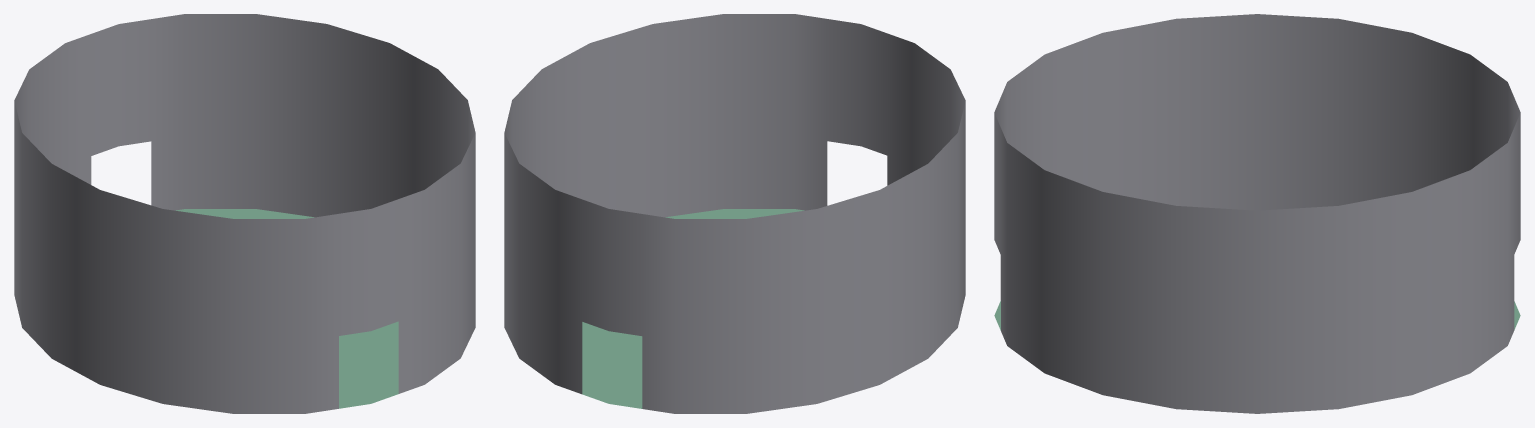
The model's file is Atrium4.fbx.
The picture shows the model from 3 angles, left to right: view 1: azimuth 30°, elevation 25°; view 2: azimuth 150°, elevation 25°; view 3: azimuth 270°, elevation 25°; orthographic projection. The views are drawn at different scales.
Parts seen in each view (by area): view 1: pCylinder1; view 2: pCylinder1; view 3: pCylinder1.
Boxes of the visible parts, box(x1,y1,x2,y2) form: pCylinder1: box(14, 14, 475, 413); pCylinder1: box(504, 14, 965, 413); pCylinder1: box(994, 14, 1520, 413).
Size of the model in its own units: 2711 by 1307 by 3066.
